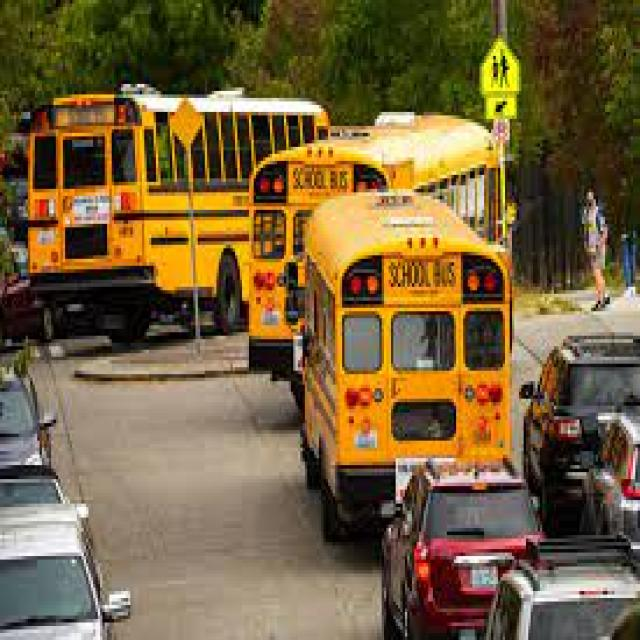bus: (30, 84, 326, 339), (303, 192, 510, 539), (249, 115, 498, 399)
car: (382, 462, 540, 640), (521, 336, 638, 535), (0, 504, 128, 640), (486, 539, 638, 640), (579, 413, 638, 553)
person: (582, 189, 607, 311)
